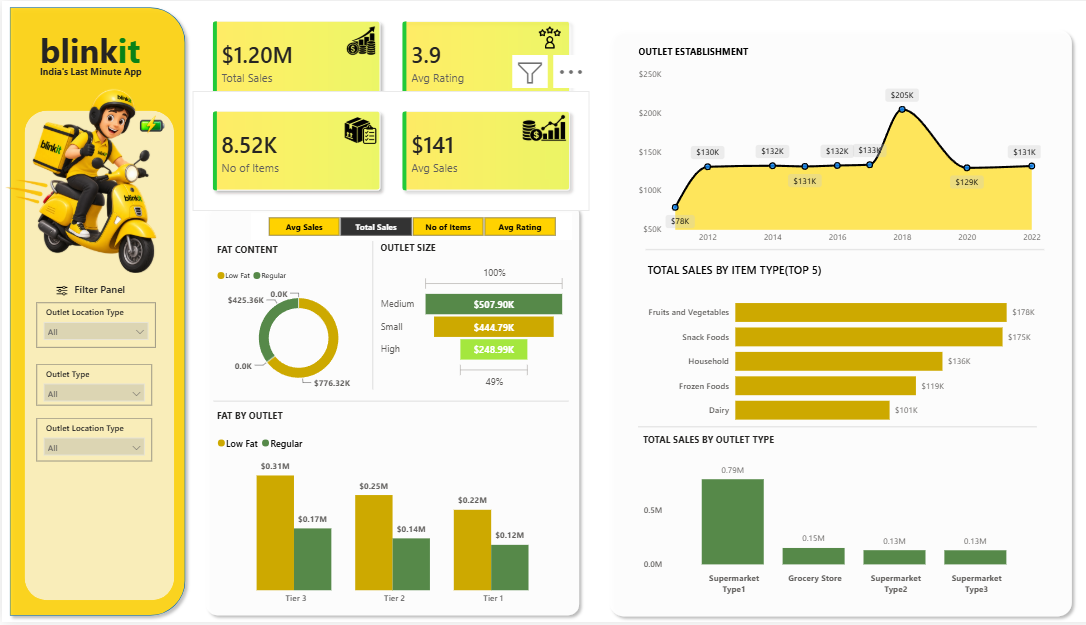

This screenshot's page, from the dashboard's own definition file:
{"tool":"powerbi","page":{"name":"Page 1","canvas":[1600,900],"ordinal":0},"visuals":[{"type":"shape","box":[2,0,272.5,900],"z":0},{"type":"textbox","box":[50,32,172,76],"z":1000},{"type":"textbox","box":[50,88,172,58],"z":2000},{"type":"shape","box":[287.8,285.4,558.5,614.6],"z":3000},{"type":"donutChart","title":"FAT CONTENT","fields":{"Y":["BlinkIT Grocery Data.Total Sales","BlinkIT Grocery Data.Avg Rating"],"Category":["BlinkIT Grocery Data.Item Fat Content"]},"box":[307,349,246,221],"z":4000},{"type":"slicer","fields":{"Values":["Metrics.Metrics"]},"box":[360,306,465,40],"z":5000},{"type":"clusteredColumnChart","title":"FAT BY OUTLET","fields":{"Y":["BlinkIT Grocery Data.Total Sales"],"Category":["BlinkIT Grocery Data.Outlet Location Type"],"Series":["BlinkIT Grocery Data.Item Fat Content"]},"box":[307.3,590.2,524.4,292.7],"z":6000},{"type":"shape","box":[307.3,573.2,514.6,12.2],"z":7000},{"type":"shape","box":[479.7,347.5,113.6,215.3],"z":8000},{"type":"shape","box":[870.7,31.7,687.8,868.3],"z":9000},{"type":"cardVisual","fields":{"Data":["BlinkIT Grocery Data.Total Sales","BlinkIT Grocery Data.Avg Rating"]},"box":[276,0,576.7,173.6],"z":10000},{"type":"cardVisual","fields":{"Data":["BlinkIT Grocery Data.No of Items","BlinkIT Grocery Data.Avg Sales"]},"box":[276,130,576.7,173.6],"z":11000},{"type":"image","box":[740.7,37.3,105.1,32.2],"z":12000},{"type":"shape","box":[931.7,343.9,577.9,33.6],"z":13000},{"type":"funnel","title":"OUTLET SIZE","fields":{"Category":["BlinkIT Grocery Data.Outlet Size"],"Y":["BlinkIT Grocery Data.Total Sales"]},"box":[543.9,348.8,278,219.5],"z":14000},{"type":"image","box":[486.4,32.2,67.8,50.8],"z":15000},{"type":"image","box":[476.3,166.1,86.4,45.8],"z":16000},{"type":"image","box":[747.5,155.9,74.6,55.9],"z":17000},{"type":"shape","box":[31.7,158.5,217.1,709.8],"z":18000},{"type":"image","box":[0,116.9,240,286],"z":19000},{"type":"clusteredBarChart","title":"TOTAL SALES BY ITEM TYPE(TOP 5)","fields":{"Category":["BlinkIT Grocery Data.Item Type"],"Y":["BlinkIT Grocery Data.Total Sales"]},"box":[931.4,378.6,578.6,248.6],"z":20000},{"type":"lineChart","title":"OUTLET ESTABLISHMENT","fields":{"Y":["BlinkIT Grocery Data.Total Sales"],"Category":["BlinkIT Grocery Data.Outlet Establishment Year"]},"box":[917.1,63.4,592.7,297.6],"z":21000},{"type":"columnChart","title":"TOTAL SALES BY OUTLET TYPE","fields":{"Category":["BlinkIT Grocery Data.Outlet Type"],"Y":["Sum(BlinkIT Grocery Data.Sales)"]},"box":[922.9,627.1,587.1,241.4],"z":22000},{"type":"shape","box":[922,600,578,34],"z":23000},{"type":"image","box":[182.2,162.2,70,35.6],"z":24000},{"type":"slicer","fields":{"Values":["BlinkIT Grocery Data.Outlet Location Type"]},"box":[50,437.5,172.5,65],"z":24001},{"type":"slicer","fields":{"Values":["BlinkIT Grocery Data.Outlet Type"]},"box":[50,525,167.5,60],"z":24002},{"type":"slicer","fields":{"Values":["BlinkIT Grocery Data.Outlet Location Type"]},"box":[50,605,167.5,62.5],"z":24003},{"type":"image","box":[68.6,410,34.3,17.1],"z":24004},{"type":"textbox","box":[100,402.9,101.4,32.9],"z":24005}]}

Visuals, with their boxes in screenshot pixels (x1, y1, x2, y2), scaled from the page's 1600x900 canvas onto the 1086x625 screenshot:
shape: 1, 0, 186, 624
textbox: 34, 22, 151, 75
textbox: 34, 61, 151, 101
shape: 195, 198, 574, 624
"FAT CONTENT" donutChart: 208, 242, 375, 396
slicer - Metrics.Metrics: 244, 212, 560, 240
"FAT BY OUTLET" clusteredColumnChart: 209, 410, 565, 613
shape: 209, 398, 558, 407
shape: 326, 241, 403, 391
shape: 591, 22, 1058, 624
cardVisual - BlinkIT Grocery Data.Total Sales x BlinkIT Grocery Data.Avg Rating: 187, 0, 579, 121
cardVisual - BlinkIT Grocery Data.No of Items x BlinkIT Grocery Data.Avg Sales: 187, 90, 579, 211
image: 503, 26, 574, 48
shape: 632, 239, 1025, 262
"OUTLET SIZE" funnel: 369, 242, 558, 395
image: 330, 22, 376, 58
image: 323, 115, 382, 147
image: 507, 108, 558, 147
shape: 22, 110, 169, 603
image: 0, 81, 163, 280
"TOTAL SALES BY ITEM TYPE(TOP 5)" clusteredBarChart: 632, 263, 1025, 436
"OUTLET ESTABLISHMENT" lineChart: 622, 44, 1025, 251
"TOTAL SALES BY OUTLET TYPE" columnChart: 626, 435, 1025, 603
shape: 626, 417, 1018, 440
image: 124, 113, 171, 137
slicer - BlinkIT Grocery Data.Outlet Location Type: 34, 304, 151, 349
slicer - BlinkIT Grocery Data.Outlet Type: 34, 365, 148, 406
slicer - BlinkIT Grocery Data.Outlet Location Type: 34, 420, 148, 464
image: 47, 285, 70, 297
textbox: 68, 280, 137, 303
